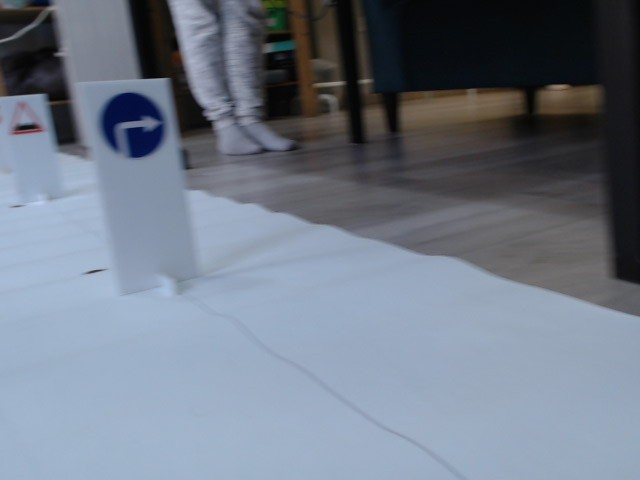Nerov: (10, 101, 47, 135)
Right: (99, 91, 168, 163)
